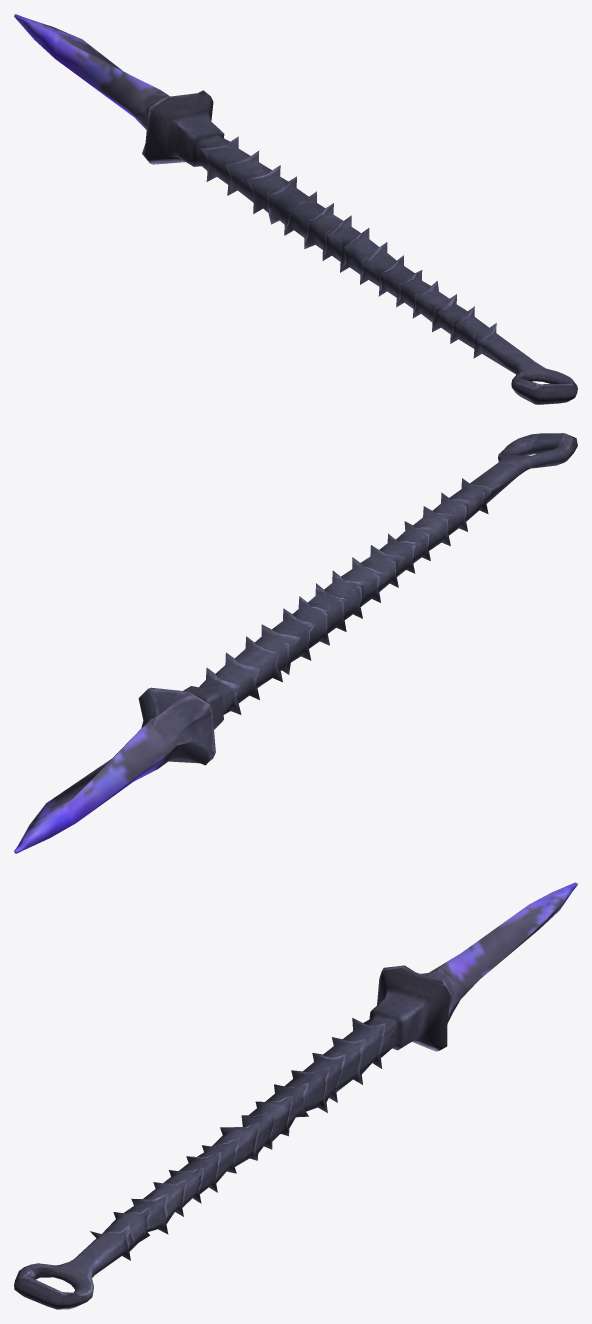
File: f_javelin.fbx
The picture shows the model from 3 angles, top to bottom: view 1: azimuth 30°, elevation 25°; view 2: azimuth 150°, elevation 25°; view 3: azimuth 330°, elevation 25°; orthographic projection. The views are drawn at different scales.
Visible parts, largest first — view 1: tripo_node_c86e48da-7133-40e5-ba91-ba9c00c56f53; view 2: tripo_node_c86e48da-7133-40e5-ba91-ba9c00c56f53; view 3: tripo_node_c86e48da-7133-40e5-ba91-ba9c00c56f53.
Part boxes in pixels (left/top/right/bottom): tripo_node_c86e48da-7133-40e5-ba91-ba9c00c56f53: left=14, top=14, right=577, bottom=404; tripo_node_c86e48da-7133-40e5-ba91-ba9c00c56f53: left=14, top=433, right=577, bottom=853; tripo_node_c86e48da-7133-40e5-ba91-ba9c00c56f53: left=14, top=882, right=577, bottom=1309.
Size of the model in its own units: 0.1423 by 0.1256 by 1.64.
Materials: 1 (1 with a texture image).
